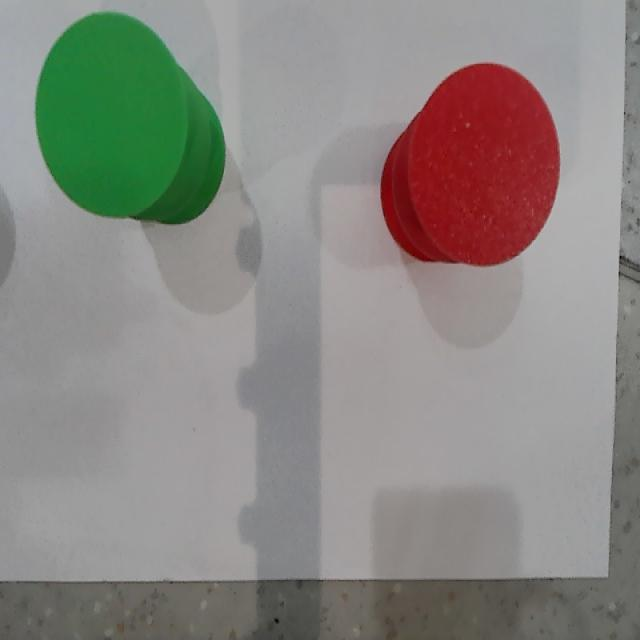g: (36, 12, 186, 220)
r: (411, 62, 561, 266)
